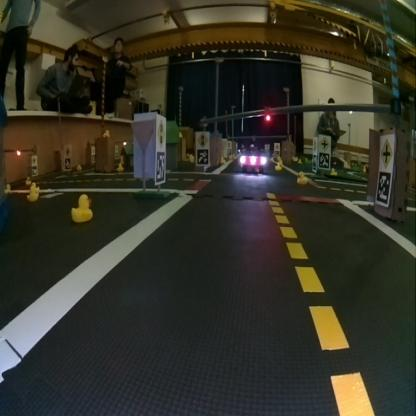Duckie: (72, 193, 92, 220), (27, 186, 38, 200), (297, 171, 306, 183), (275, 161, 281, 170), (116, 163, 122, 171), (76, 164, 82, 172), (330, 167, 336, 175)
Duckiebot: (239, 149, 266, 172)
Intersection sign: (380, 138, 392, 168), (320, 137, 328, 151)
QR code: (375, 170, 391, 204), (155, 151, 165, 181), (196, 147, 208, 164), (318, 152, 329, 166), (63, 158, 70, 169), (312, 155, 317, 170)
Signal sign: (156, 118, 165, 147), (196, 132, 208, 146)
